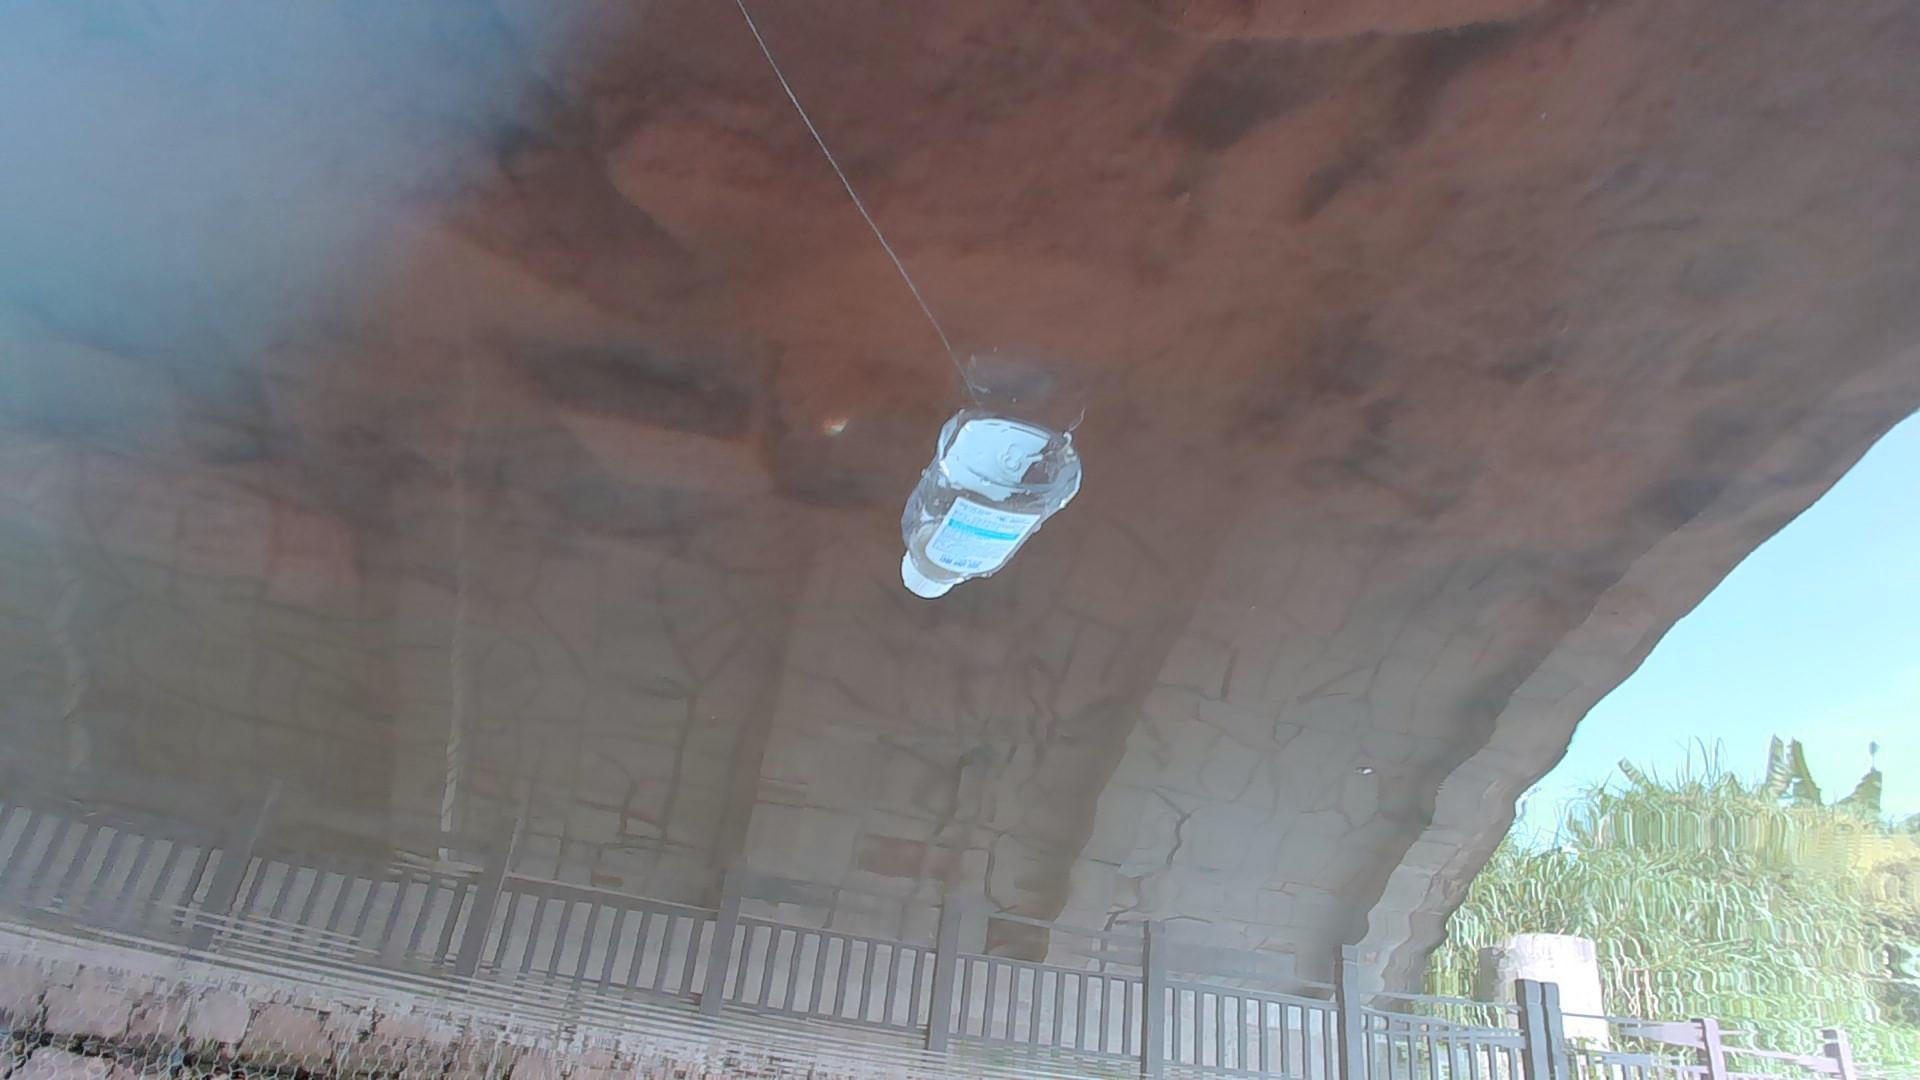Glass: (894, 409, 1084, 604)
